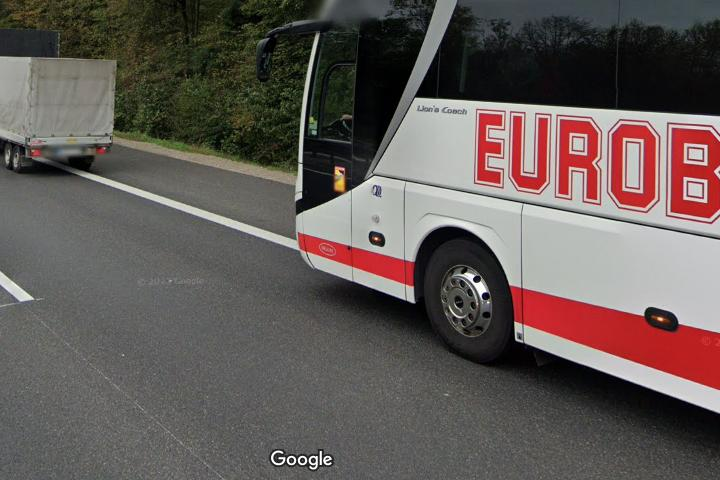vehicle: (251, 1, 720, 419)
